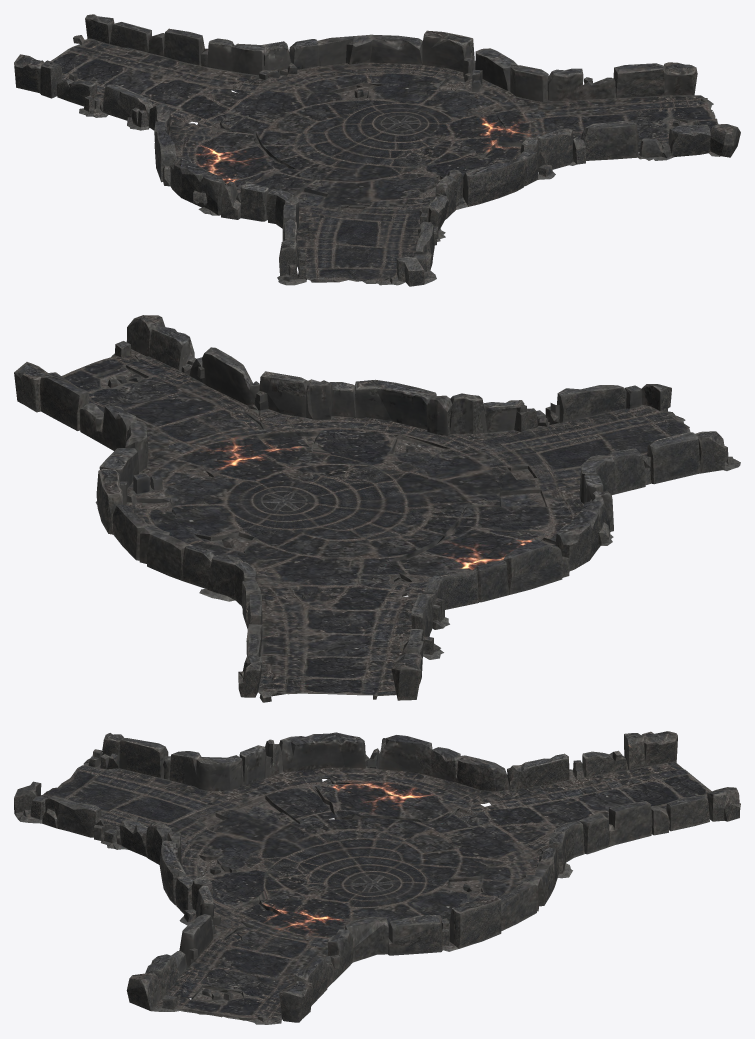
File: plaza_fork.glb
3 views of the same model, one above another, from view 1: azimuth 30°, elevation 25°; view 2: azimuth 150°, elevation 25°; view 3: azimuth 270°, elevation 25° (orthographic). The views are drawn at different scales.
Bounding box in the file's own units: 1.65 × 0.1108 × 1.9.
Materials: 1 (1 with a texture image).
